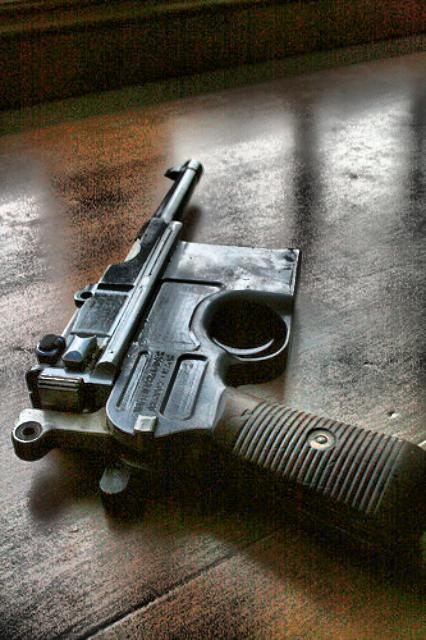pistol: (16, 152, 424, 564)
